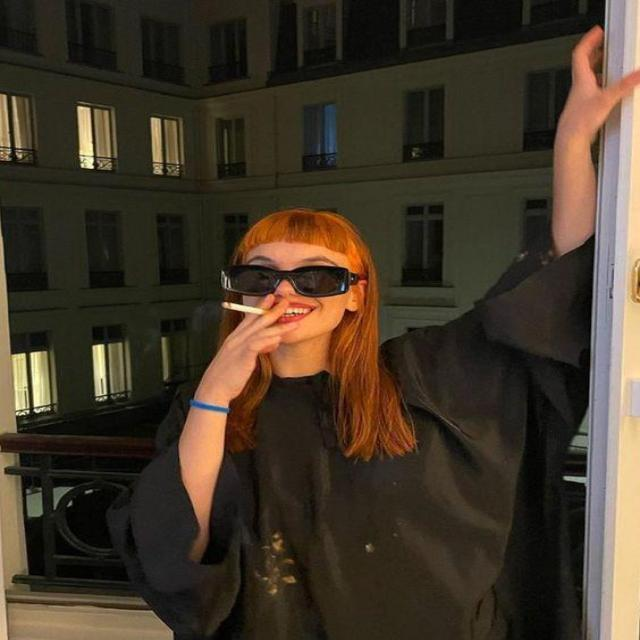cigarette: (194, 276, 309, 334)
